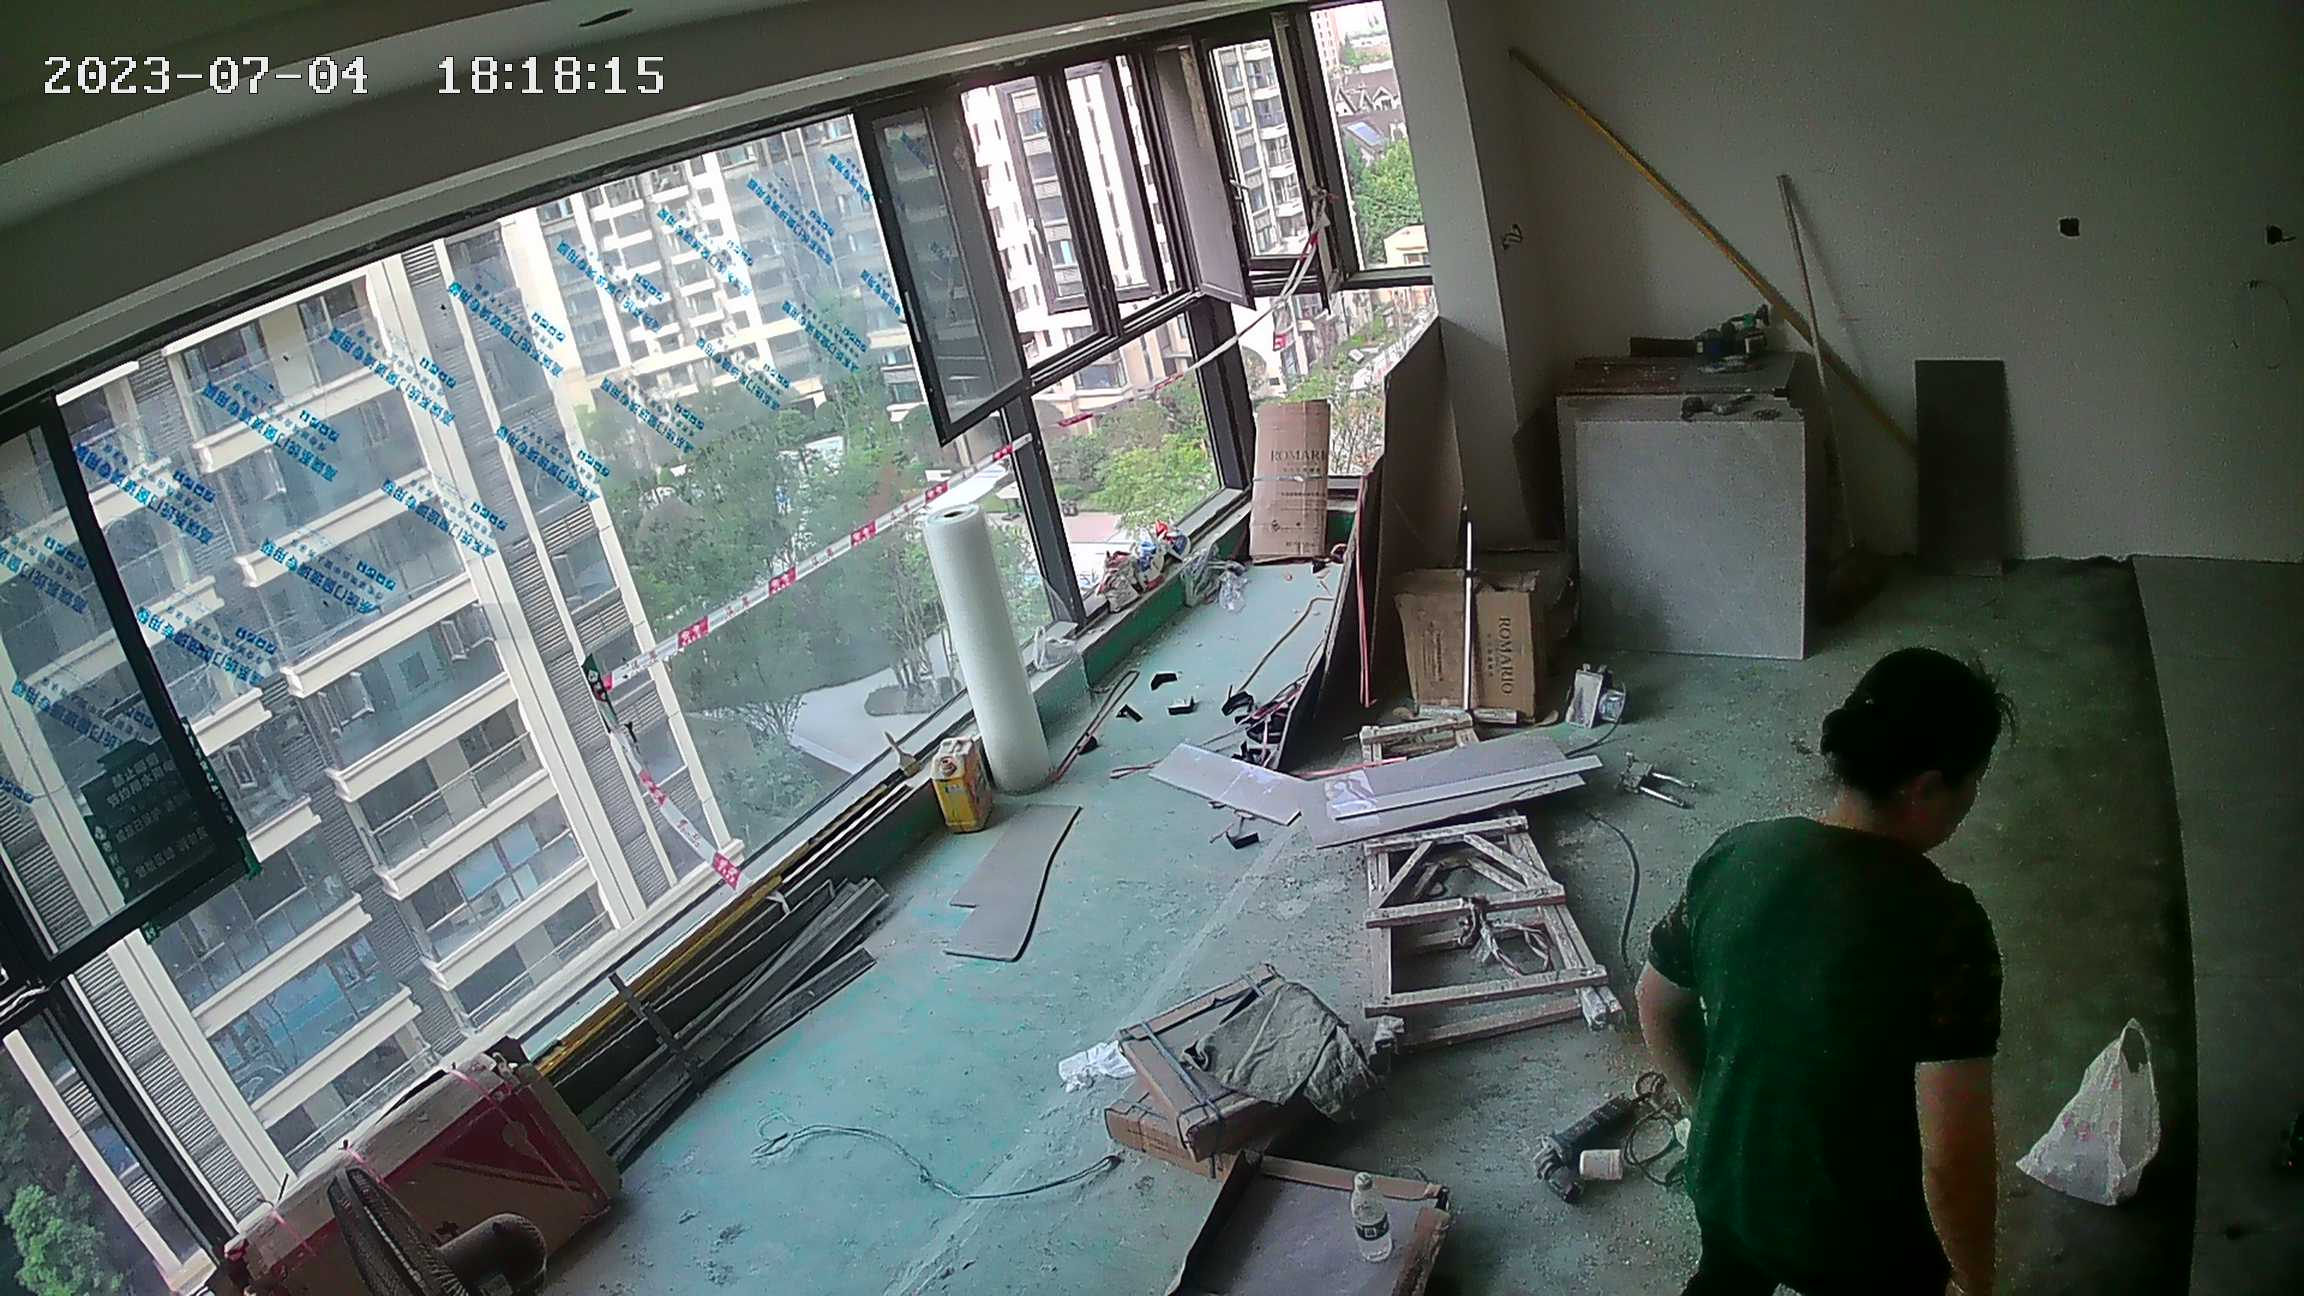people: (1631, 623, 2003, 1296)
window: (27, 55, 1353, 1282)
